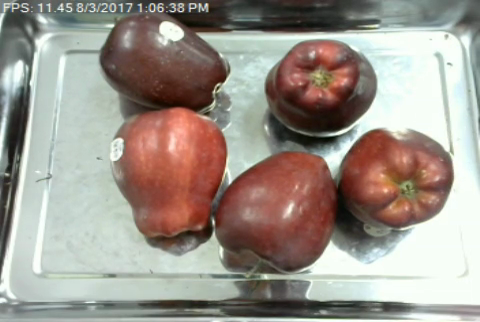Apple: (107, 104, 230, 241), (211, 149, 341, 275), (97, 8, 234, 111), (334, 123, 456, 232), (261, 34, 380, 139)
